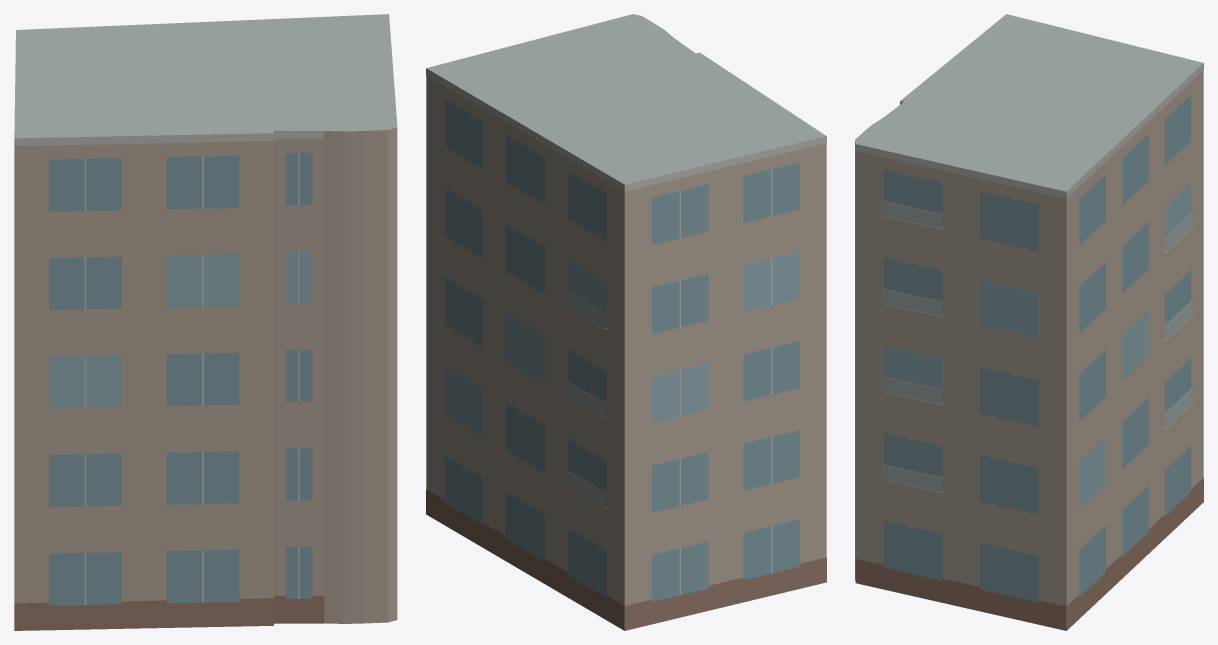
Rendered from survey-upis-32723719.glb.
3 views of the same model, side by side, from view 1: azimuth 30°, elevation 25°; view 2: azimuth 150°, elevation 25°; view 3: azimuth 270°, elevation 25° (orthographic). The views are drawn at different scales.
Visible parts, largest first — view 1: survey-upis-32723719.tmp; view 2: survey-upis-32723719.tmp; view 3: survey-upis-32723719.tmp.
Boxes of the visible parts, x1,y1,x2,y2 form: survey-upis-32723719.tmp: (14, 14, 397, 630); survey-upis-32723719.tmp: (426, 14, 826, 630); survey-upis-32723719.tmp: (855, 14, 1203, 630).
Bounding box in the file's own units: 13.46 × 15.5 × 11.16.
